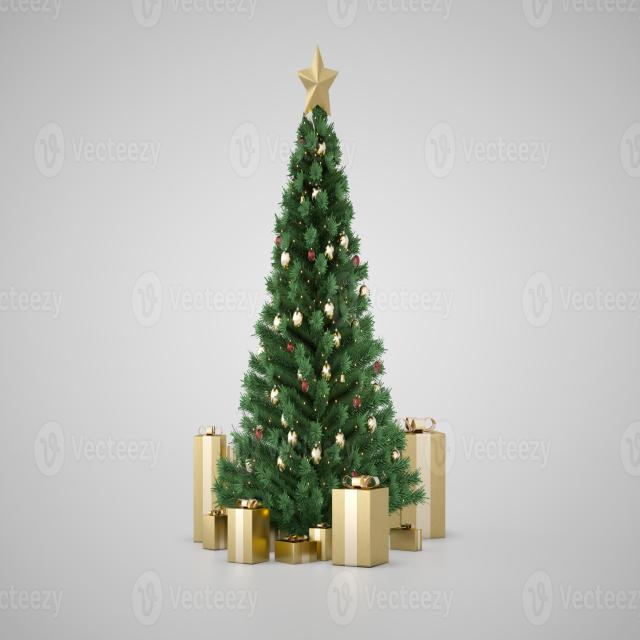Christmas-tree: (233, 54, 404, 483)
